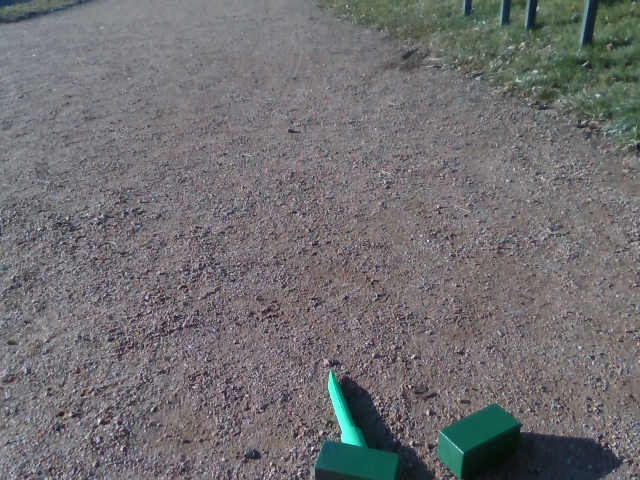Probe: (323, 370, 365, 452)
